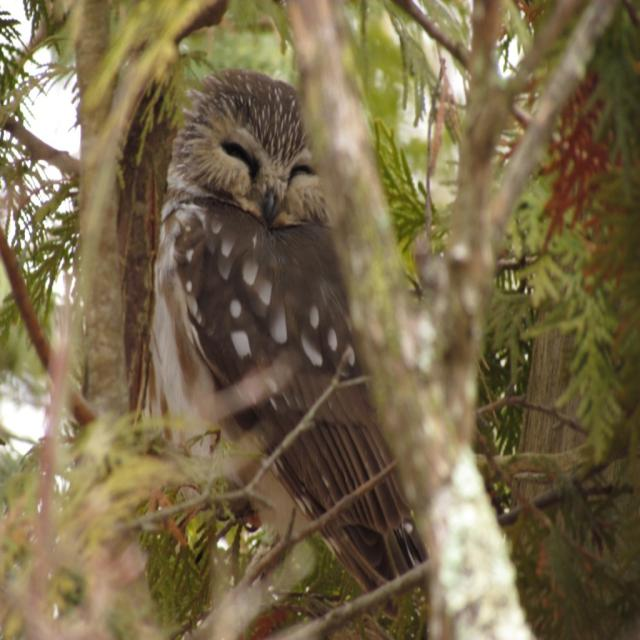bird: (148, 74, 414, 575)
